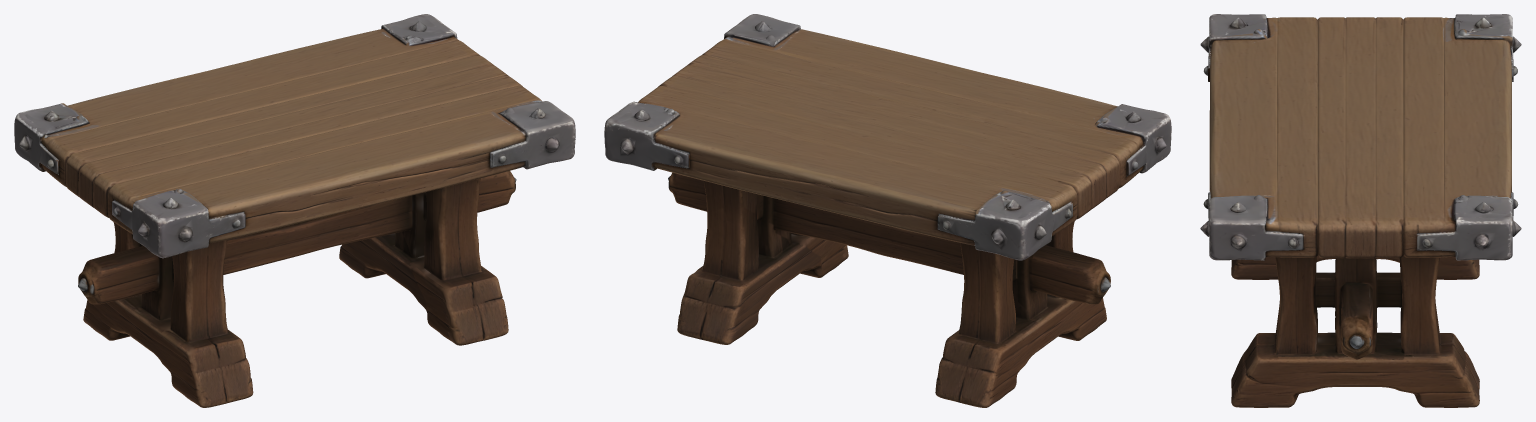
Rendered from table_1024.glb.
The picture shows the model from 3 angles, left to right: view 1: azimuth 30°, elevation 25°; view 2: azimuth 150°, elevation 25°; view 3: azimuth 270°, elevation 25°; orthographic projection. The views are drawn at different scales.
Visible parts, largest first — view 1: node_0; view 2: node_0; view 3: node_0.
Part boxes in pixels (x1=…): node_0: x1=14, y1=14, x2=575, y2=407; node_0: x1=604, y1=14, x2=1171, y2=407; node_0: x1=1200, y1=14, x2=1521, y2=407.
Size of the model in its own units: 1.01 by 0.478 by 0.6251.
Materials: 1 (1 with a texture image).
